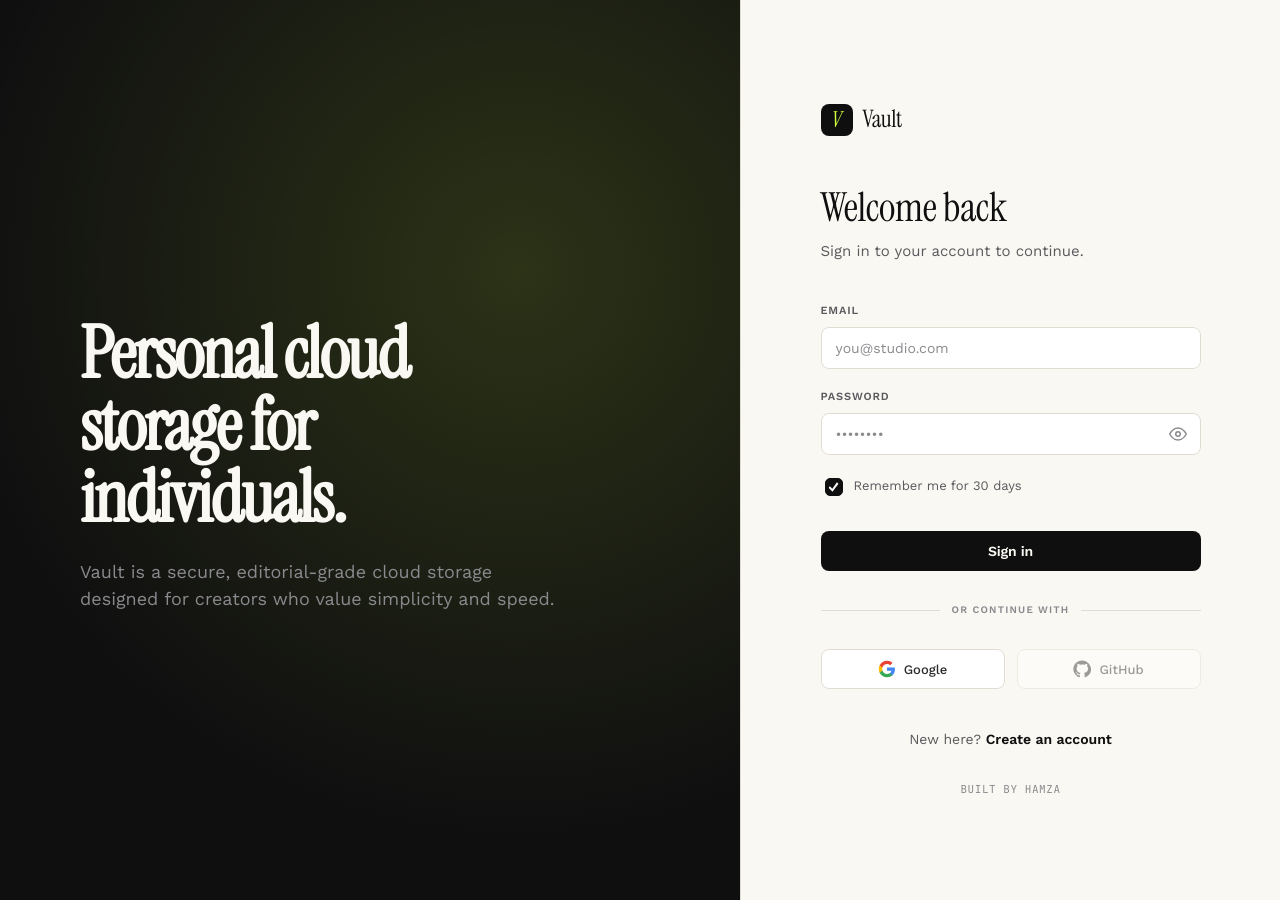
it: LoginPage › shows error banner on bad credentials
The width and height of the screenshot is (1280, 900).
Type "alice@example.com" into the field labelled "Email" at point(1010, 348), box [820,327,1200,369]
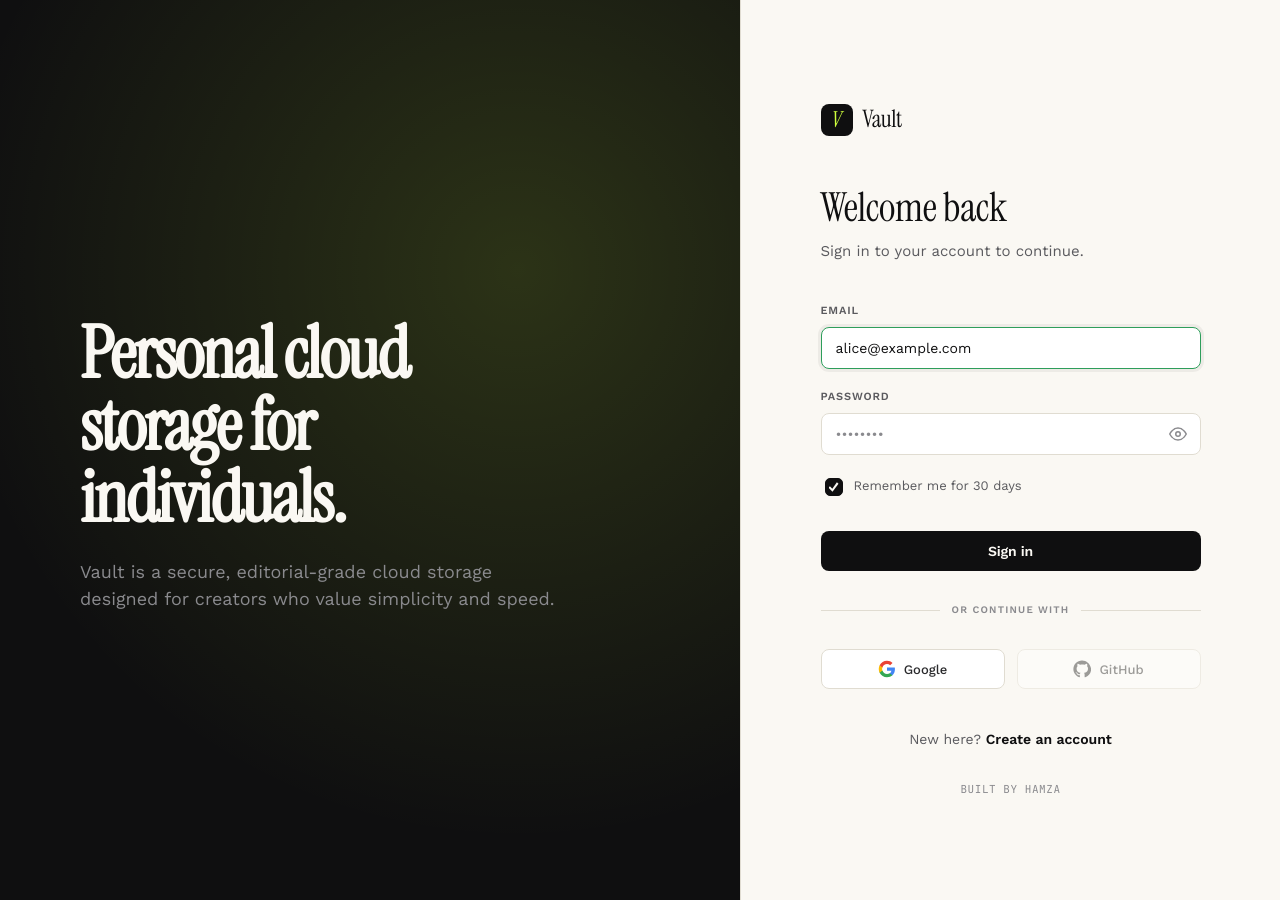
Type "password123" into the password field labelled "Password" at point(1010, 434), box [820,413,1200,455]
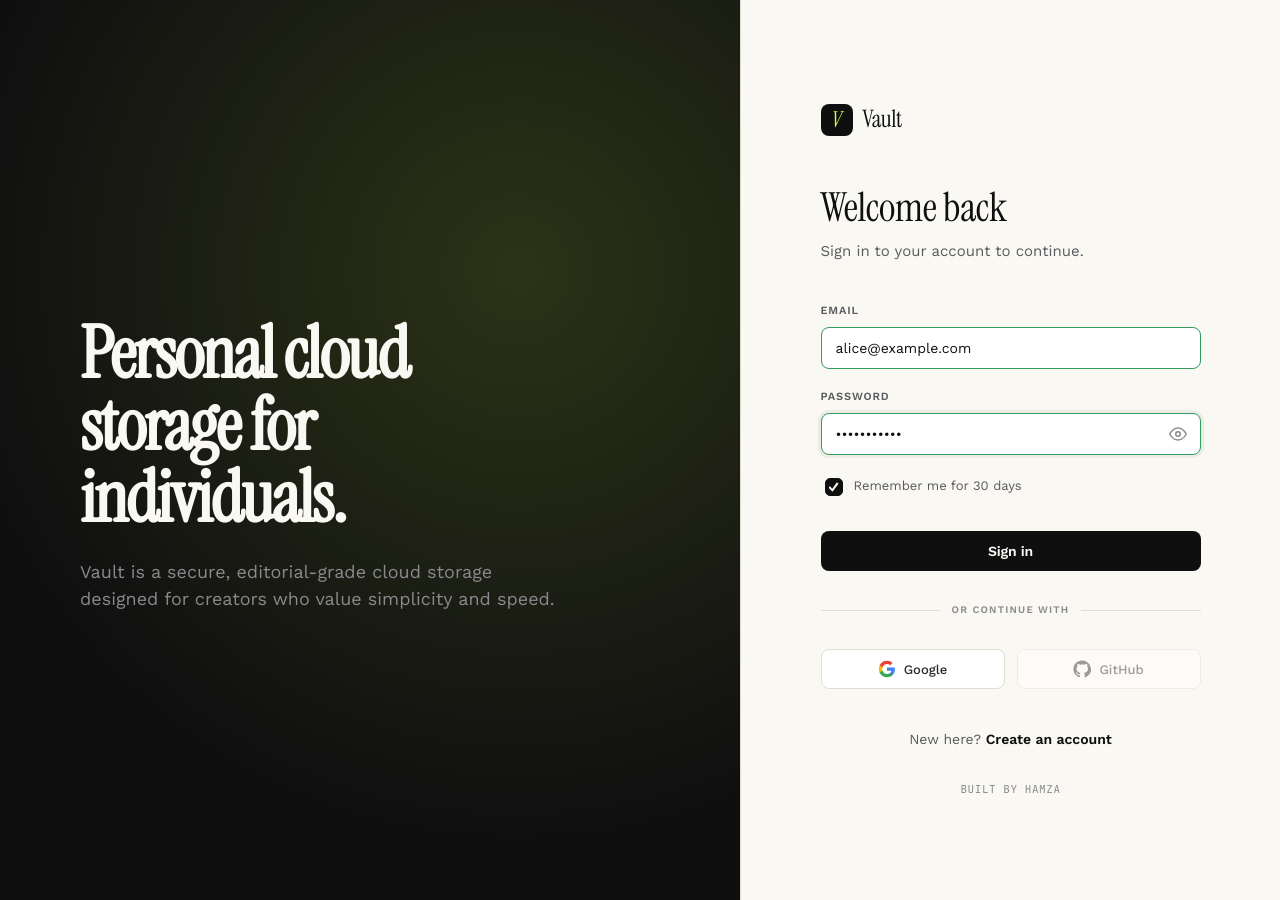
Click the button "Sign in" at point(1010, 551), box [820,531,1200,571]
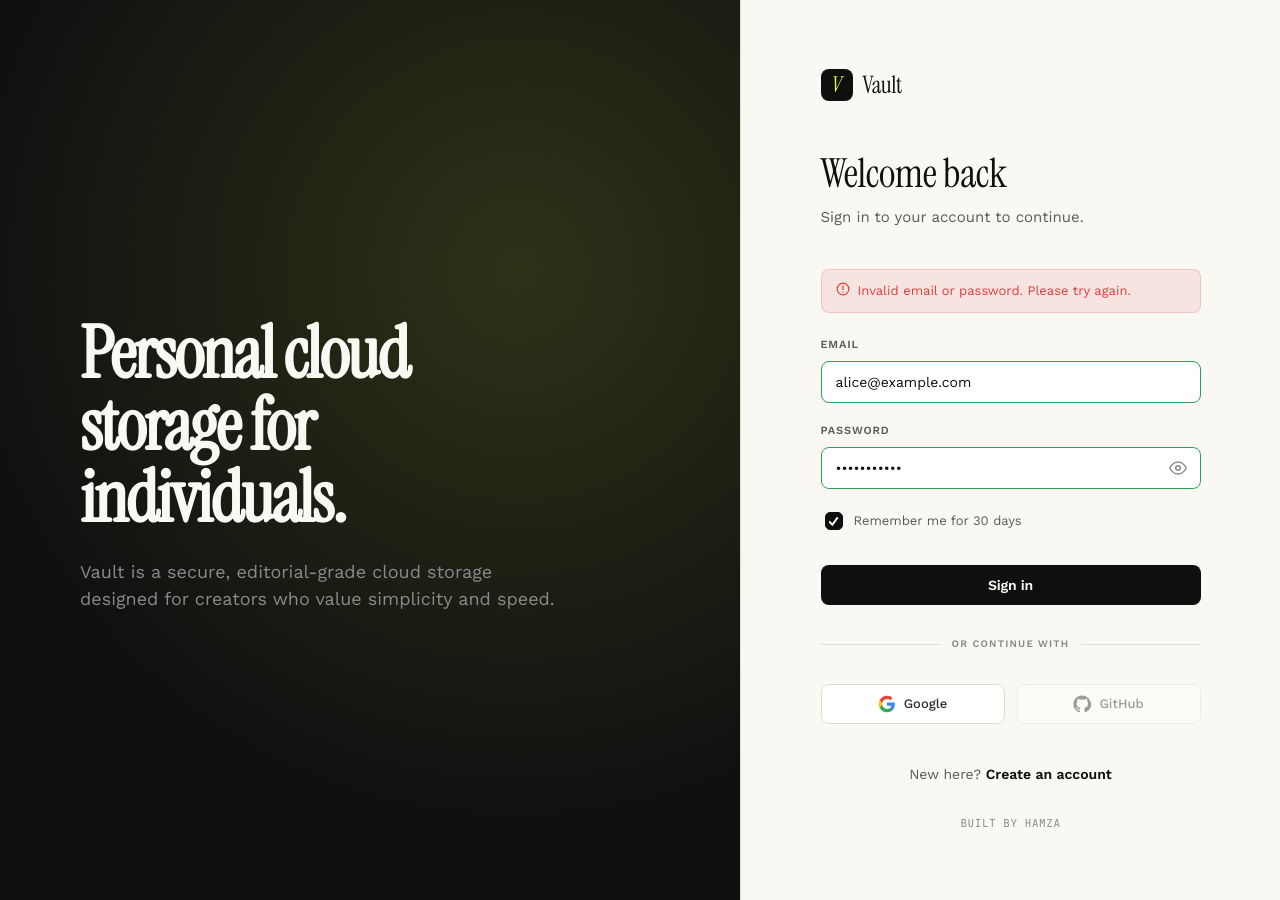
Now the text "Invalid email or password. Please try again." is shown, box [820,268,1200,313]
